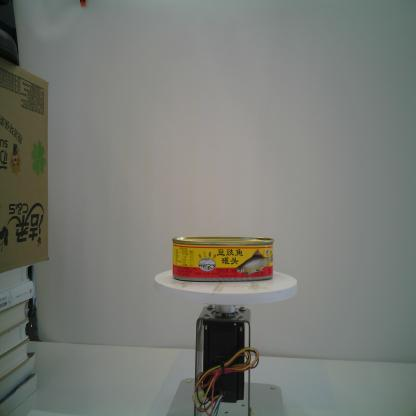Canned Food: (170, 234, 275, 284)
